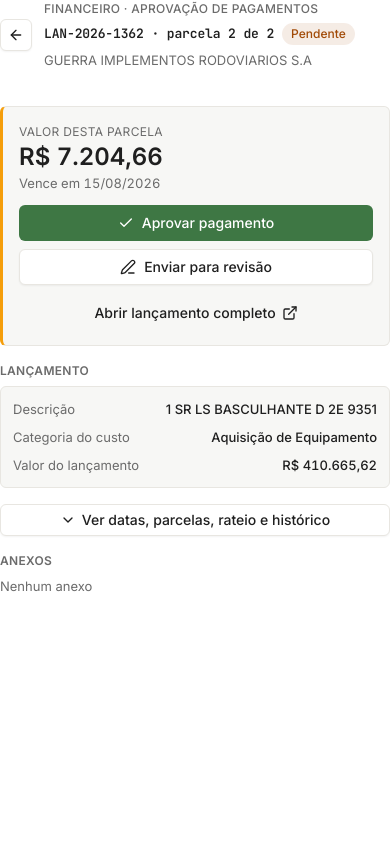
Test case: PagamentoDetalheView no celular › recolhe o que não decide o pagamento atrás de um botão que abre e fecha
The image size is (390, 844).
Click the button "Ver datas, parcelas, rateio e histórico": (195, 520) [0,504,389,536]
(page scrolled)
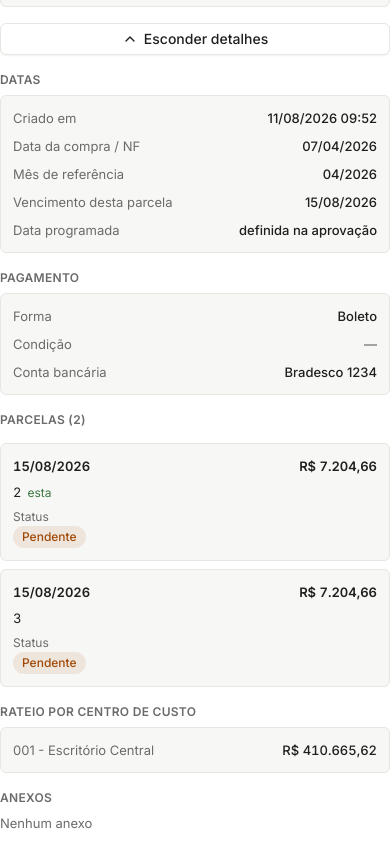
Result: the button "Esconder detalhes" is expanded at [0,23,389,55]
